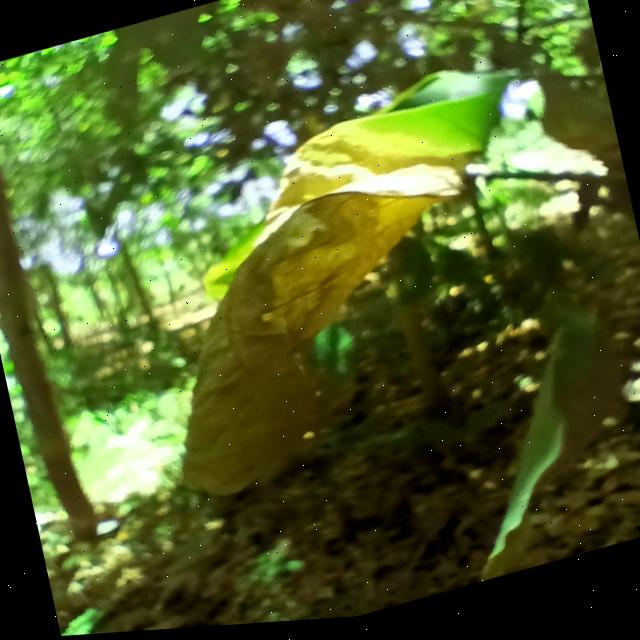Leaf-Blight: (118, 93, 520, 513)
